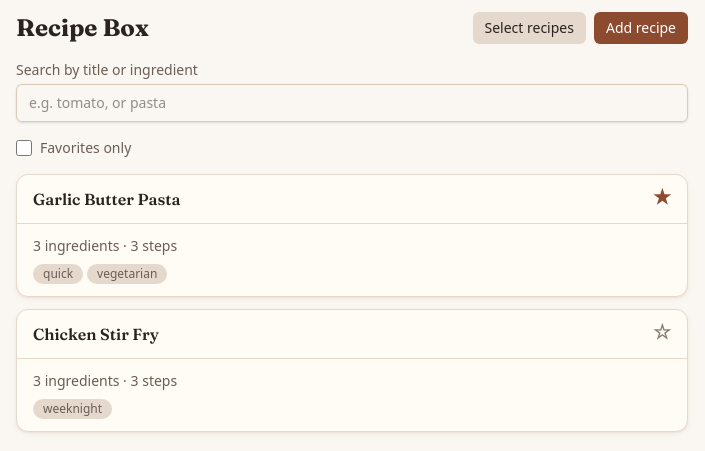
Test: RecipeBox (against the typed mock, per TEST-155 AC5) › shows a "no matches" state distinct from "no recipes yet", with a way back (AC5)
The width and height of the screenshot is (705, 451).
Expected: the text "Garlic Butter Pasta" is shown, [33,187,180,211]
Type "nonexistent ingredient" into the field labelled "Search by title or ingredient" at (352, 103), box [16,84,688,122]
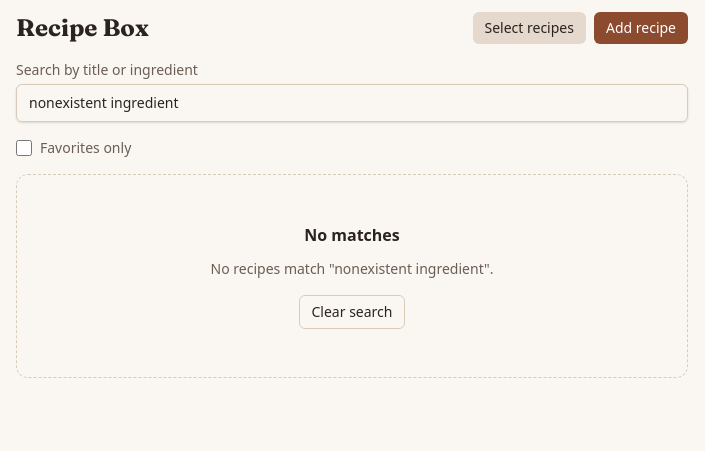
Expected: the text "No matches" is shown, [304,223,400,247]
Click the button "Clear search" at (352, 312), box [298,295,406,329]
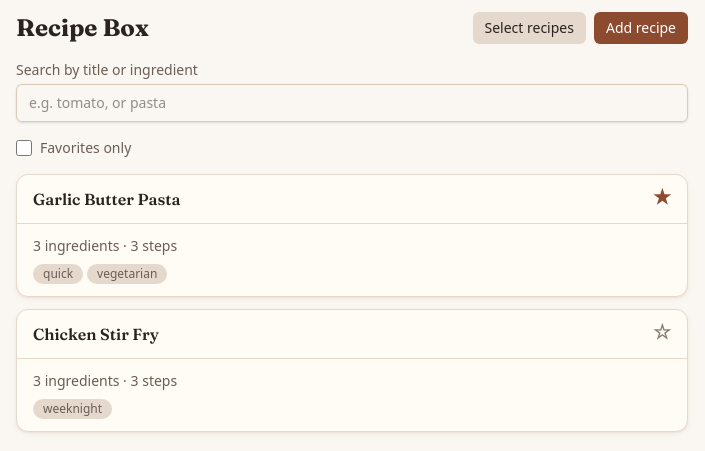
Expected: the text "Garlic Butter Pasta" is shown, [33,187,180,211]
Expected: the text "Chicken Stir Fry" is shown, [33,322,159,346]
